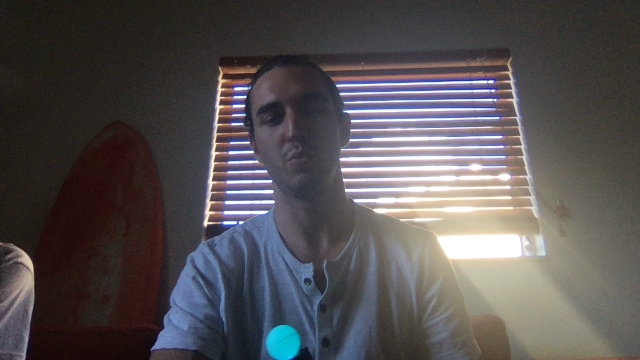wand: (266, 324, 302, 359)
